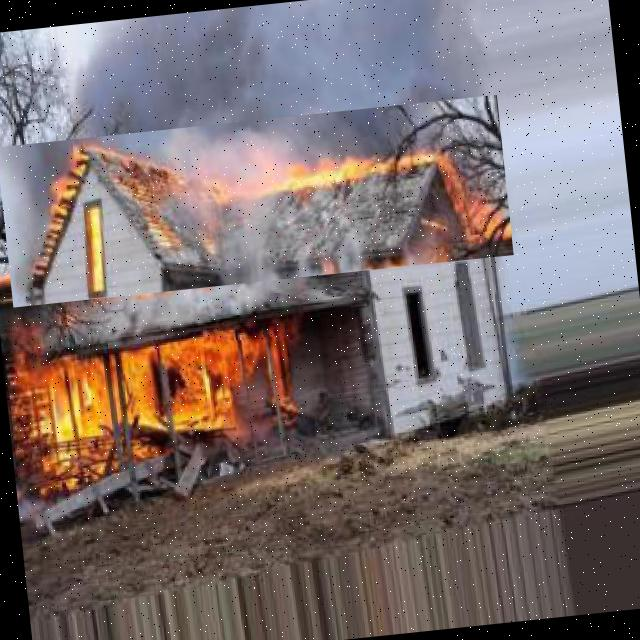fire: (0, 94, 513, 307), (5, 332, 317, 483)
